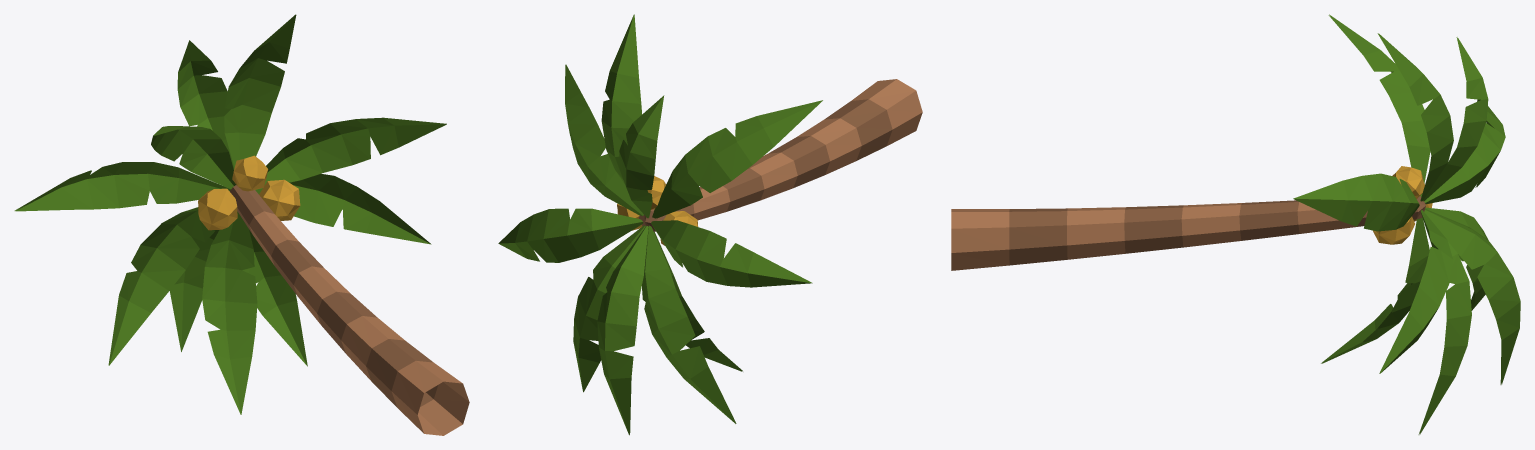
Rendered from Palm Tree 01.FBX.
3 renders of one model, left to right at view 1: azimuth 30°, elevation 25°; view 2: azimuth 150°, elevation 25°; view 3: azimuth 270°, elevation 25°, orthographic. The views are drawn at different scales.
Visible parts, largest first — view 1: Palm Tree 01; view 2: Palm Tree 01; view 3: Palm Tree 01.
Boxes of the visible parts, box(x1,y1,x2,y2) form: Palm Tree 01: box(14, 14, 469, 435); Palm Tree 01: box(498, 14, 922, 435); Palm Tree 01: box(951, 14, 1520, 434).
Bounding box in the file's own units: 370 × 361 × 480.
